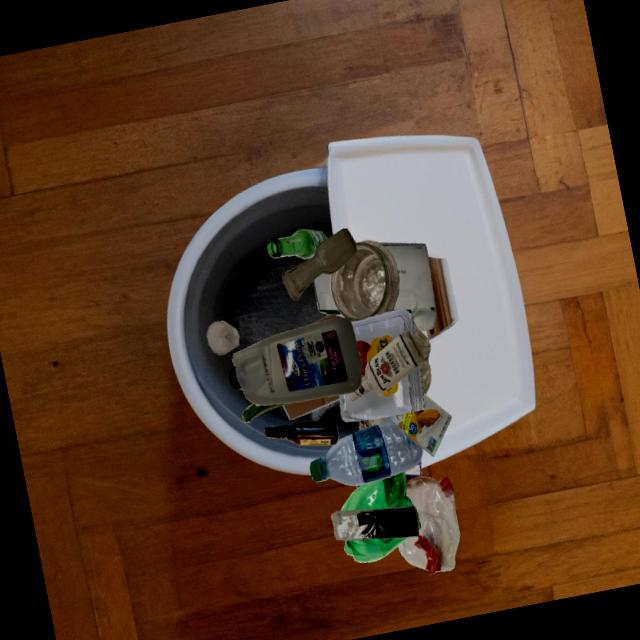cardboard: (387, 392, 452, 457), (357, 428, 406, 486), (283, 395, 340, 420)
glass: (330, 240, 399, 322), (347, 331, 424, 403), (282, 228, 357, 300), (268, 229, 327, 259), (265, 421, 338, 445), (414, 327, 431, 395), (207, 321, 240, 355), (242, 403, 289, 423), (364, 417, 392, 428)
paper: (330, 257, 399, 322), (393, 248, 436, 331)
plastic: (229, 317, 362, 405), (310, 421, 423, 486), (398, 476, 460, 575), (341, 471, 421, 531), (339, 366, 424, 422), (351, 309, 417, 379), (331, 505, 419, 541), (344, 537, 409, 562)
